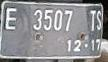clone-license-plate: (5, 2, 99, 62)
